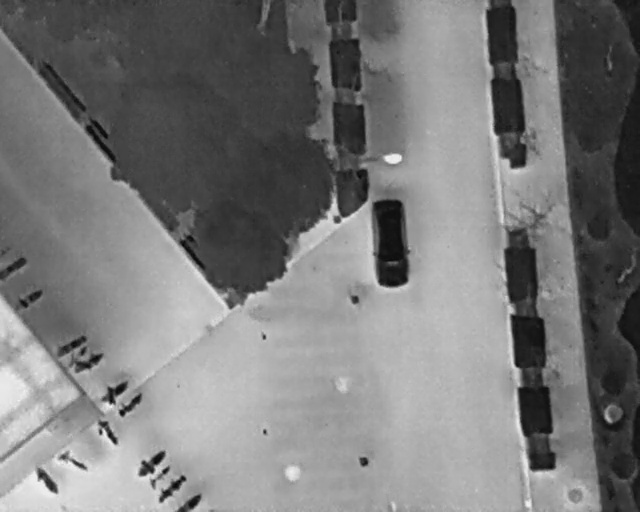Bicycle: (130, 444, 172, 482), (93, 374, 134, 411), (150, 470, 191, 507), (90, 413, 124, 452), (30, 462, 64, 499), (52, 329, 91, 361), (142, 461, 178, 494), (55, 445, 93, 476), (114, 390, 148, 421), (12, 284, 47, 314), (71, 350, 106, 379), (62, 341, 92, 372), (0, 256, 28, 281), (176, 492, 202, 510)
Car: (368, 196, 410, 289)
